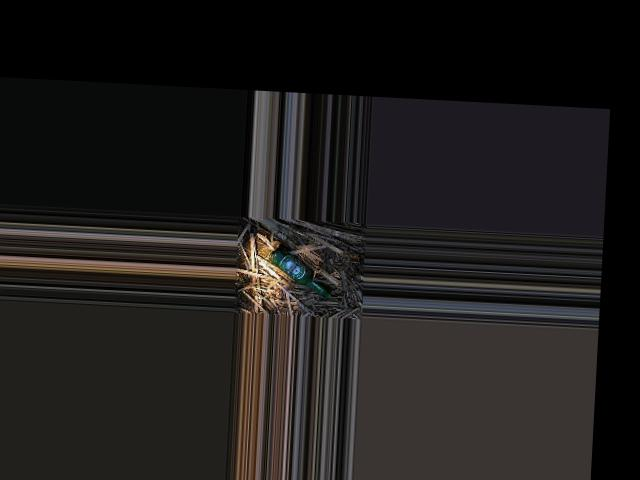beer: (267, 243, 334, 297)
